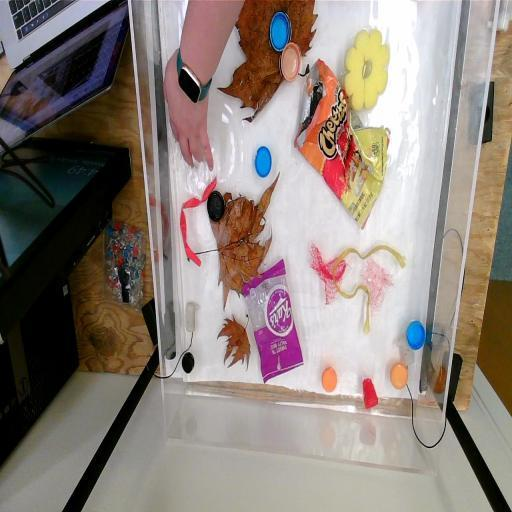Bottle Cap: (268, 8, 292, 53), (280, 38, 302, 86), (204, 186, 226, 226), (404, 316, 427, 354), (388, 359, 410, 395), (319, 364, 339, 398), (253, 144, 272, 179), (181, 350, 196, 376)
Cone Cap: (358, 370, 380, 414)
Leaf: (230, 0, 316, 119), (209, 175, 281, 310), (216, 308, 254, 376)
Netting: (307, 238, 347, 312), (359, 250, 398, 324)
Plastic Bag: (294, 57, 391, 234), (240, 254, 306, 389)
Plastic Strand: (330, 240, 408, 342), (176, 174, 220, 270)
Sponge: (342, 22, 394, 118)
